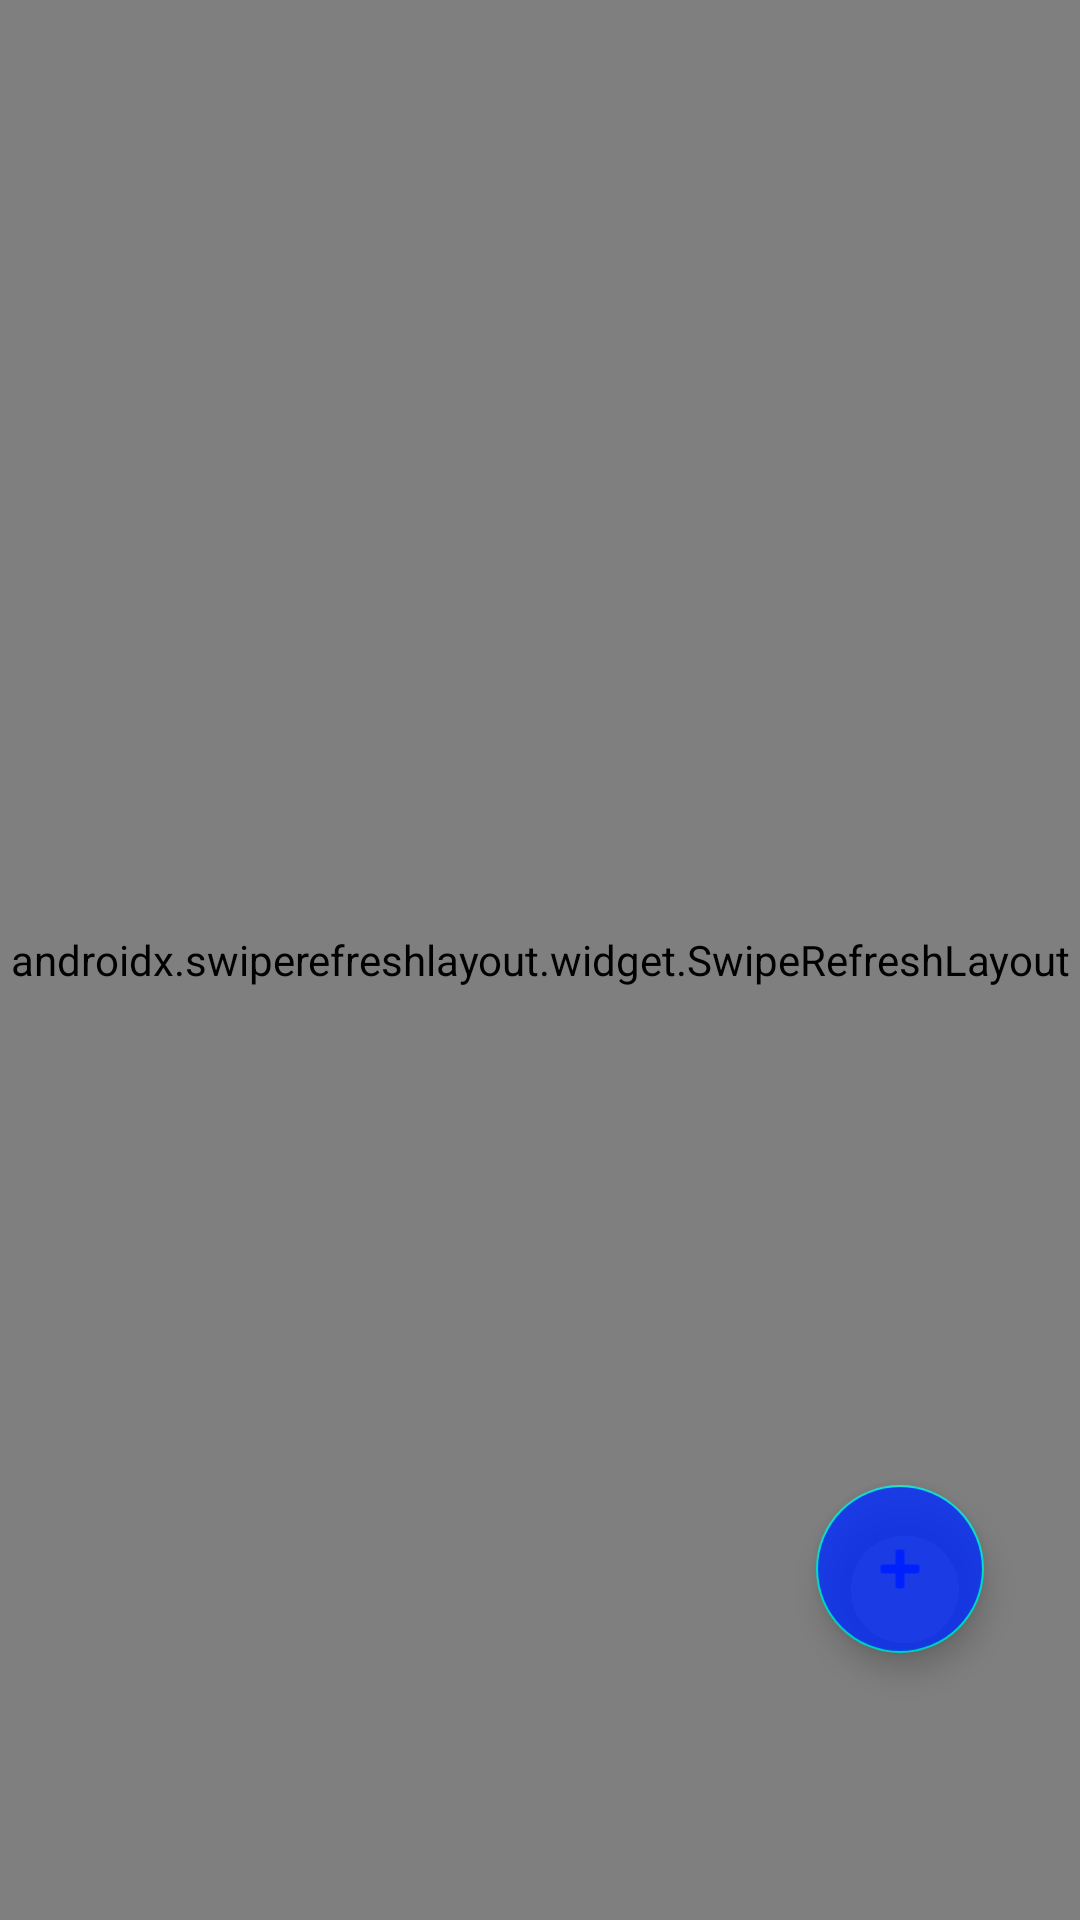

Screen size 1080w x 1920h. Icon name, then its center in pixels as (x,y):
add: (900,1569)
